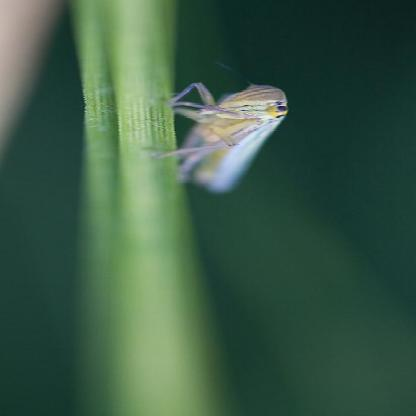Green-Leafhopper: (158, 77, 295, 195)
